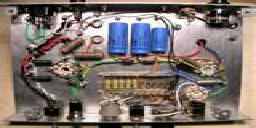Electrolytic Capacitor: (106, 19, 129, 59), (130, 23, 152, 58), (152, 26, 168, 55)
